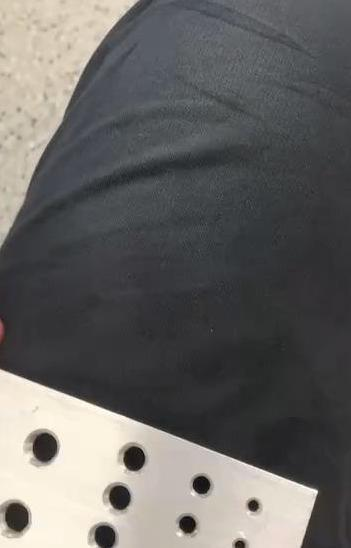hole: (23, 427, 62, 465), (0, 493, 36, 534), (116, 437, 152, 472), (86, 516, 122, 548), (104, 476, 137, 510), (173, 508, 204, 538), (188, 468, 217, 498), (244, 491, 266, 513), (229, 533, 250, 548)
